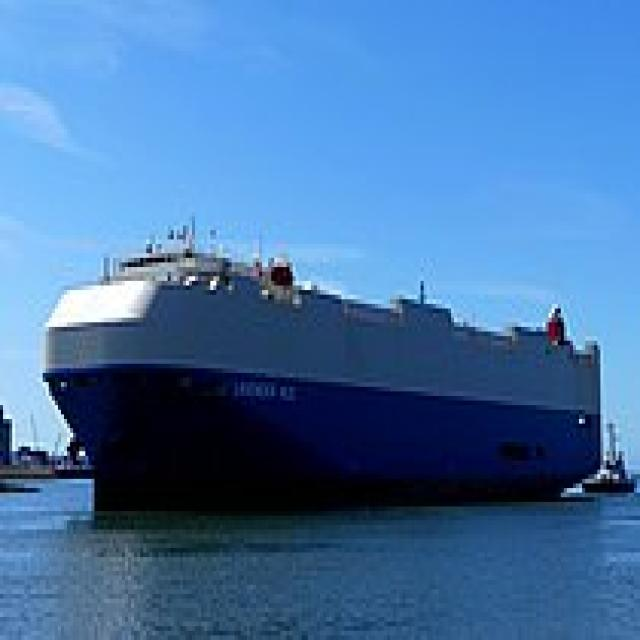Carrier: (36, 207, 604, 525)
